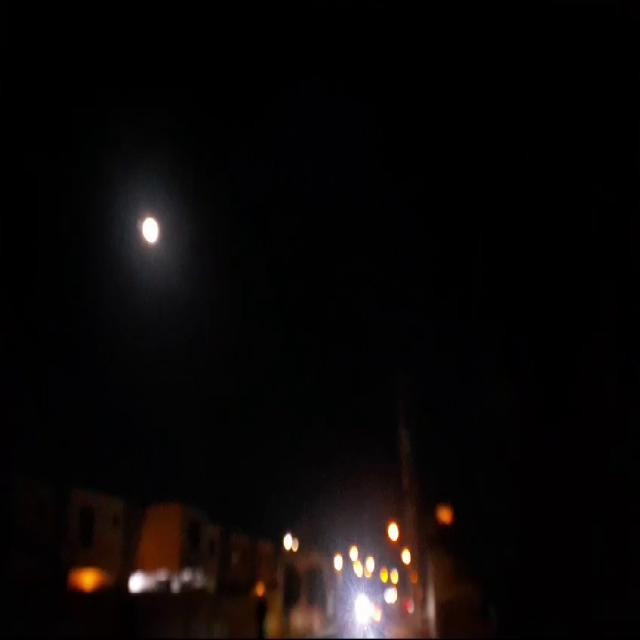moon: (140, 207, 161, 243)
